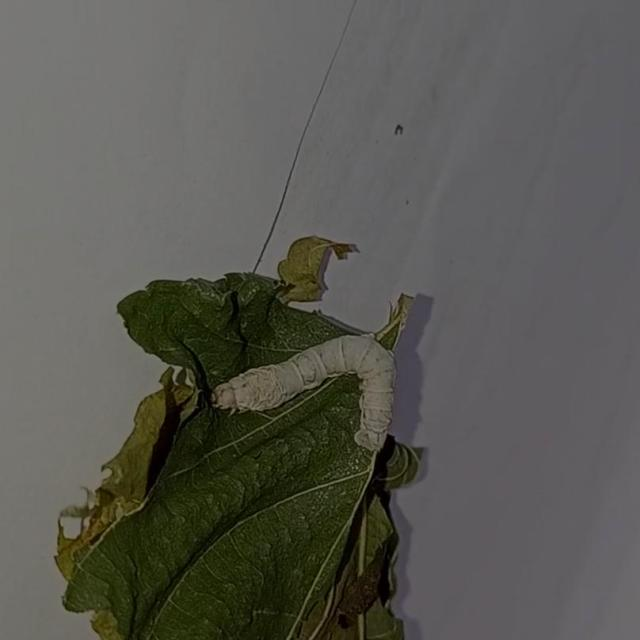Healthy: (178, 317, 420, 464)
